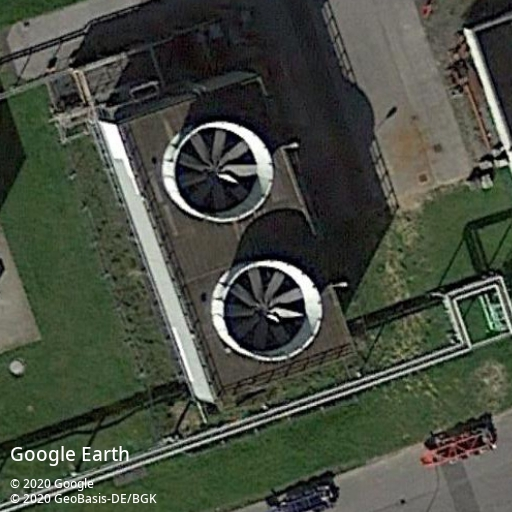Vent: (173, 126, 260, 214), (222, 265, 309, 352)
